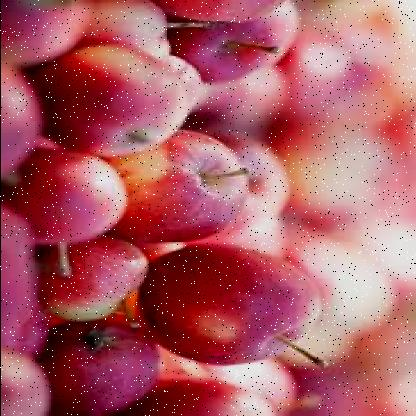apple: (150, 250, 318, 364), (44, 48, 186, 156), (118, 136, 250, 242), (54, 316, 164, 413), (34, 152, 130, 244), (50, 240, 152, 324), (191, 3, 295, 83)
